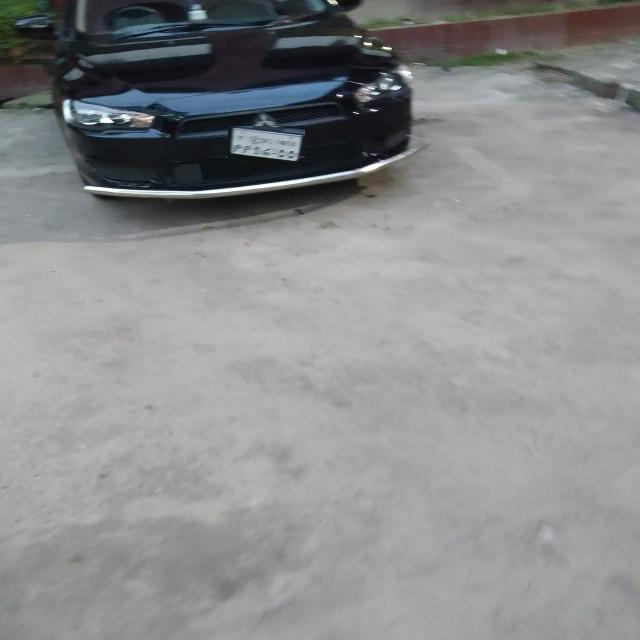numberplate: (228, 126, 305, 162)
